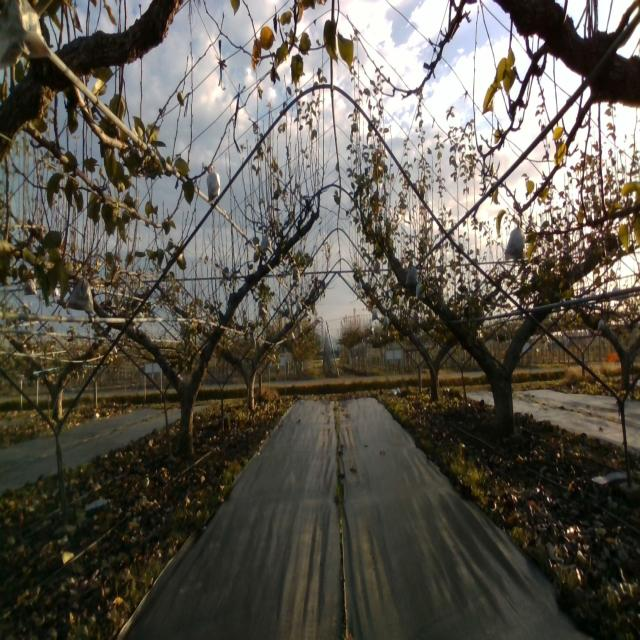pearbags: (0, 0, 51, 69), (505, 220, 528, 260), (206, 162, 221, 204), (260, 230, 274, 254), (405, 262, 417, 286)
